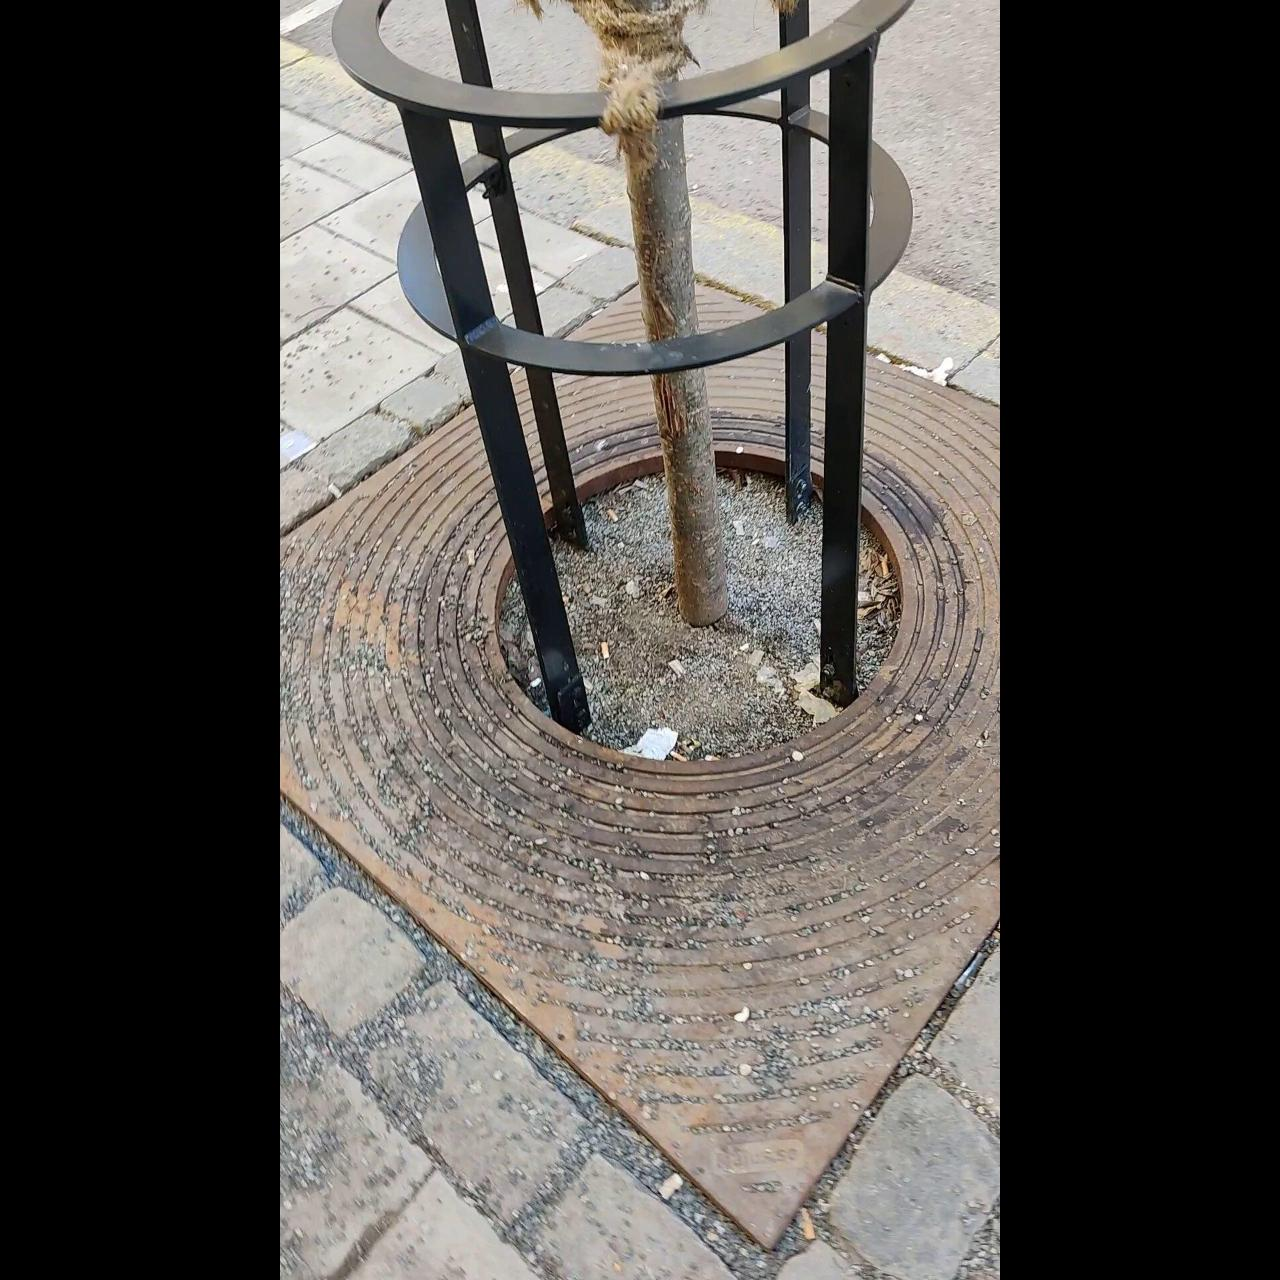cigarettes_butts: (654, 1173, 680, 1201), (326, 477, 343, 497), (598, 640, 612, 661), (880, 559, 892, 583), (606, 508, 622, 523), (464, 546, 476, 567), (670, 751, 686, 761)
others: (670, 658, 689, 682), (629, 477, 652, 491)
